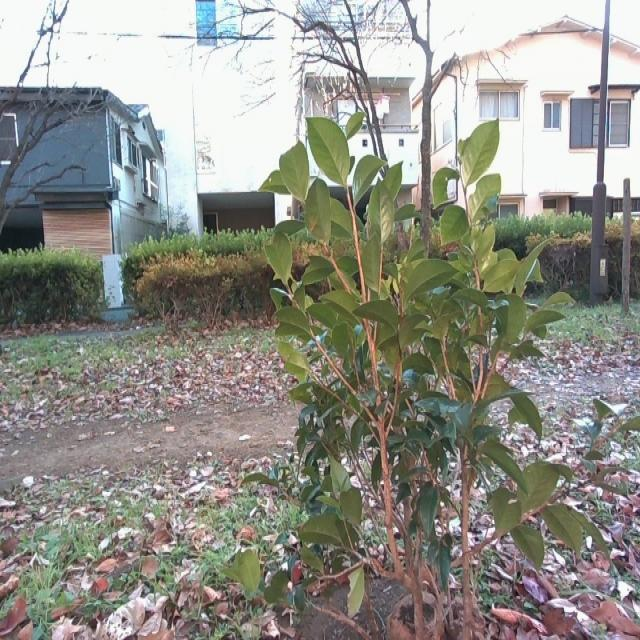artifact: (174, 2, 636, 220), (2, 86, 171, 260), (587, 0, 620, 303)
bush: (262, 101, 573, 640), (124, 204, 638, 326), (0, 229, 110, 343)
tree: (318, 0, 446, 335), (0, 0, 93, 266)
